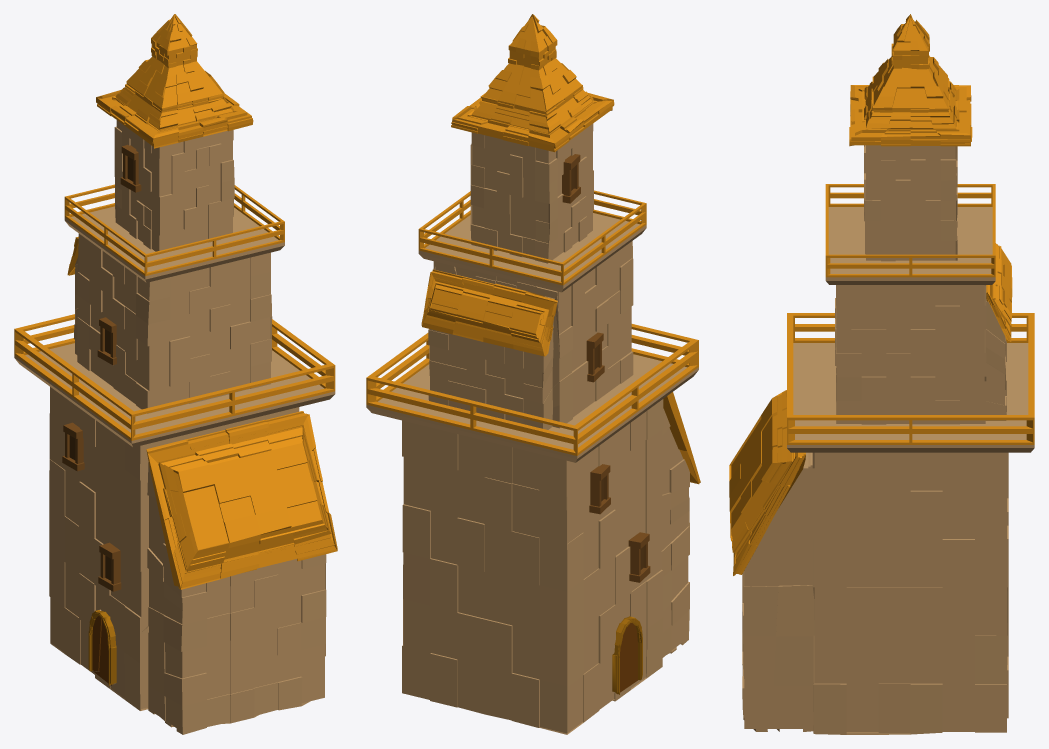
The model's file is Barracks_Building_1.fbx.
3 renders of one model, left to right at view 1: azimuth 30°, elevation 25°; view 2: azimuth 150°, elevation 25°; view 3: azimuth 270°, elevation 25°, orthographic. The views are drawn at different scales.
Parts seen in each view (by area): view 1: Cube, Cube.013, Cube.012, Cube.001, Cube.003, Cube.002; view 2: Cube, Cube.013, Cube.001, Cube.012, Cube.003, Cube.002; view 3: Cube.
Boxes of the visible parts, x1,y1,x2,y2 form: Cube: (14, 14, 337, 734); Cube.013: (88, 609, 116, 685); Cube.012: (98, 542, 121, 591); Cube.001: (62, 422, 84, 471); Cube.003: (120, 144, 141, 192); Cube.002: (97, 317, 116, 365); Cube: (366, 14, 700, 734); Cube.013: (612, 616, 642, 694); Cube.001: (589, 464, 610, 514); Cube.012: (628, 532, 650, 582); Cube.003: (562, 154, 580, 203); Cube.002: (586, 332, 604, 382); Cube: (729, 14, 1034, 734).
Bounding box in the file's own units: 903 × 2738 × 1112.
